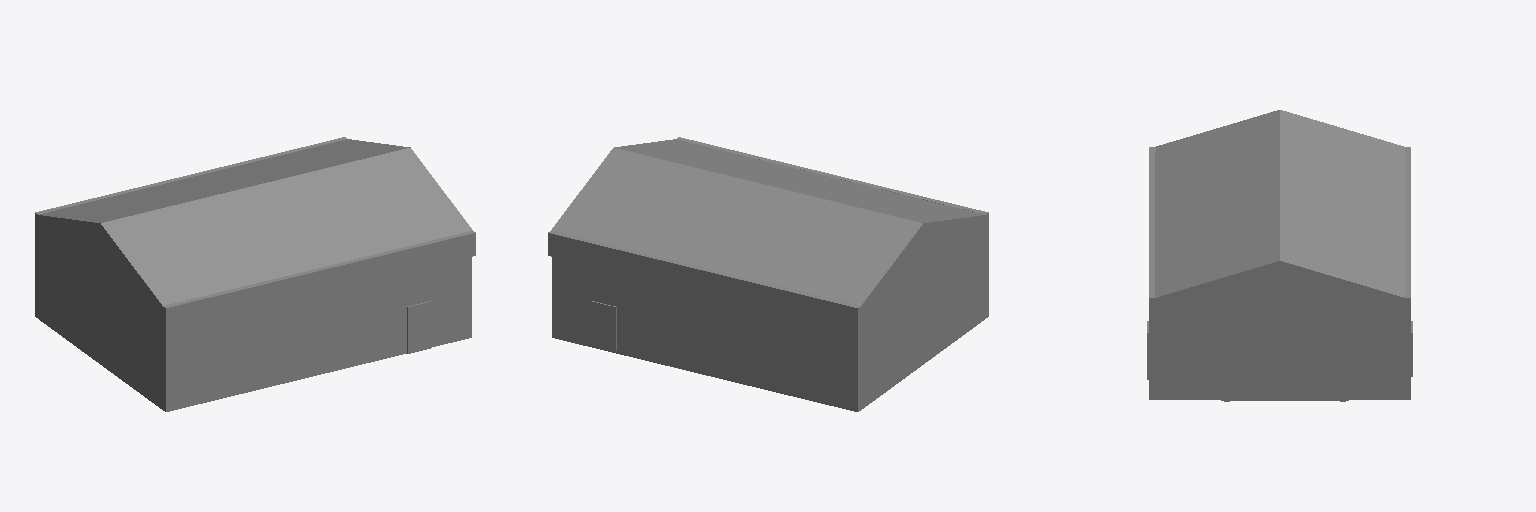
Rendered from bulding3.obj.
The picture shows the model from 3 angles: view 1: azimuth 30°, elevation 25°; view 2: azimuth 150°, elevation 25°; view 3: azimuth 270°, elevation 25°; orthographic projection.
Visible parts, largest first — view 1: obj2, obj1, obj6, obj7; view 2: obj2, obj7, obj6, obj1; view 3: obj2, obj5, obj3, obj1, obj7.
Part boxes in pixels (x1,y1,x2,y2): obj2: (39, 137, 475, 305); obj1: (163, 232, 471, 411); obj6: (38, 212, 173, 406); obj7: (35, 138, 342, 317); obj2: (548, 137, 984, 305); obj7: (552, 232, 860, 411); obj6: (850, 212, 985, 406); obj1: (681, 138, 988, 317); obj2: (1149, 110, 1410, 320); obj5: (1155, 321, 1404, 400); obj3: (1224, 321, 1345, 401); obj1: (1147, 147, 1154, 399); obj7: (1405, 147, 1412, 399).
Bounding box in the file's own units: 3145 × 1367 × 2321.